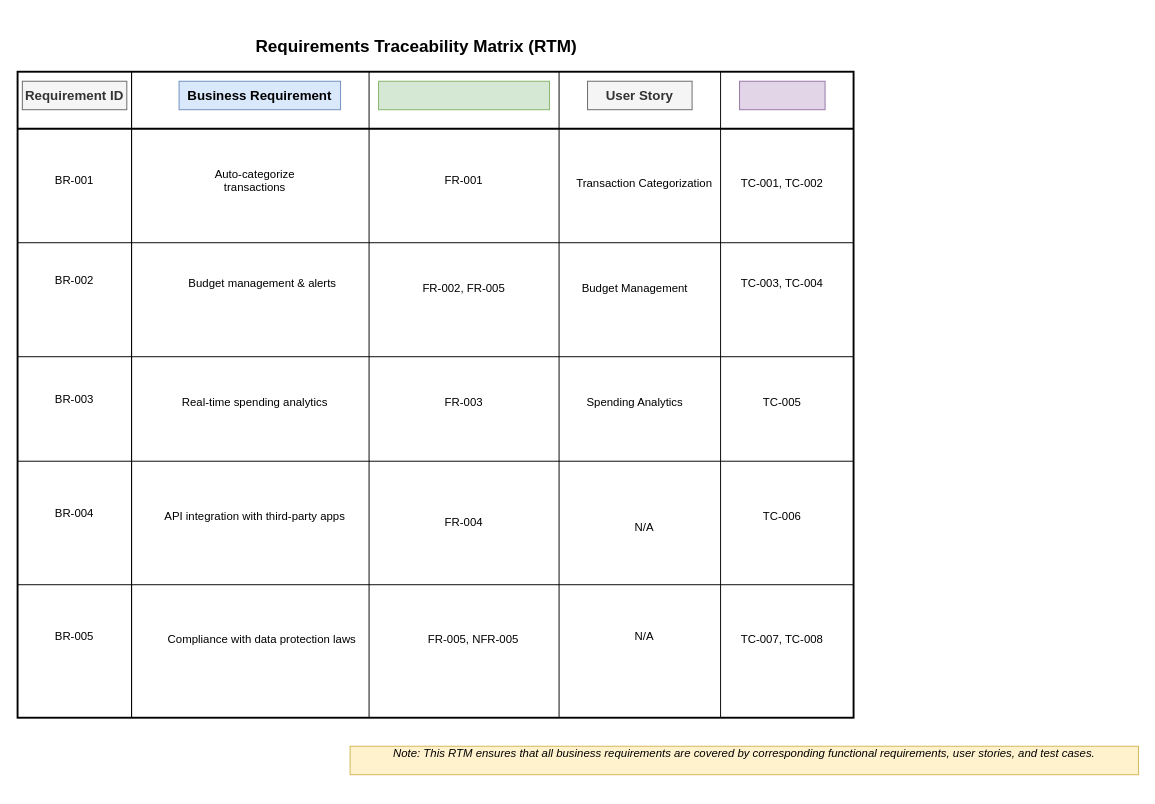
Some shapes in this 1155 by 804 pixel diagram are drawn without their labels. Each missing label, with the centre of its shape:
"Functional Requirement" belongs at (464,95).
"Test Case" belongs at (782,95).
